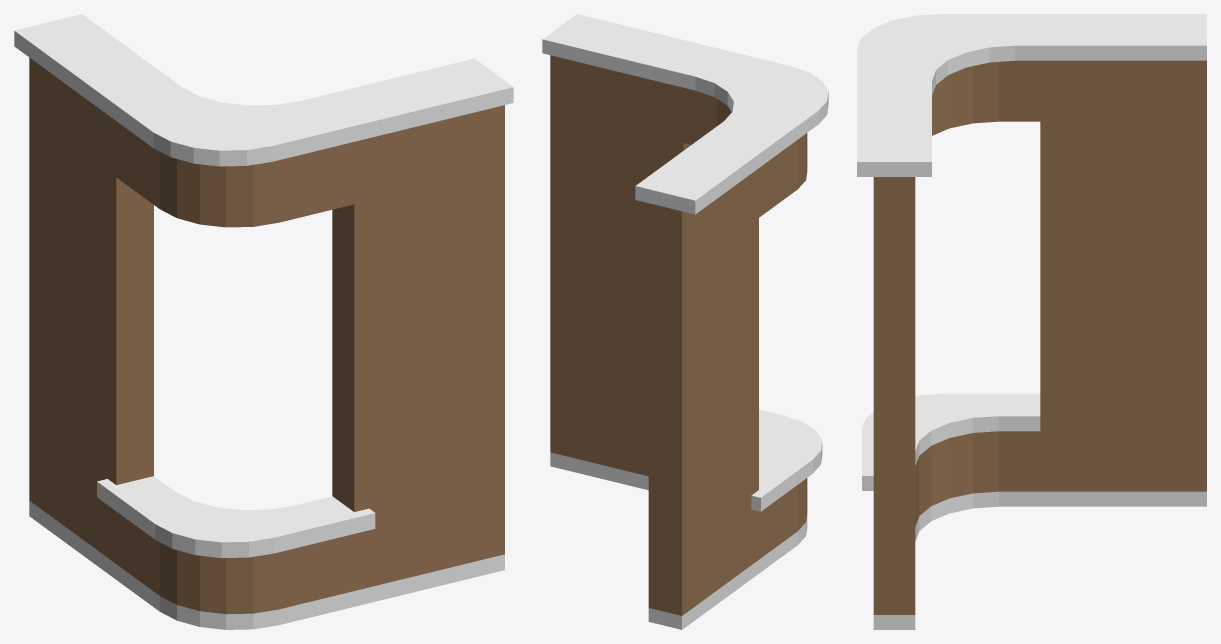
The model's file is SM_200x300_Window_CurveCorner.fbx.
3 views of the same model, side by side, from view 1: azimuth 30°, elevation 25°; view 2: azimuth 150°, elevation 25°; view 3: azimuth 270°, elevation 25° (orthographic). The views are drawn at different scales.
Parts seen in each view (by area): view 1: SM_200x300_Window_CurveCorner; view 2: SM_200x300_Window_CurveCorner; view 3: SM_200x300_Window_CurveCorner.
Boxes of the visible parts, bbox=[...] form: SM_200x300_Window_CurveCorner: bbox=[14, 14, 513, 629]; SM_200x300_Window_CurveCorner: bbox=[542, 14, 828, 629]; SM_200x300_Window_CurveCorner: bbox=[857, 14, 1206, 629].
Size of what is drawn, in the model's own units: 210 by 210 by 310.
